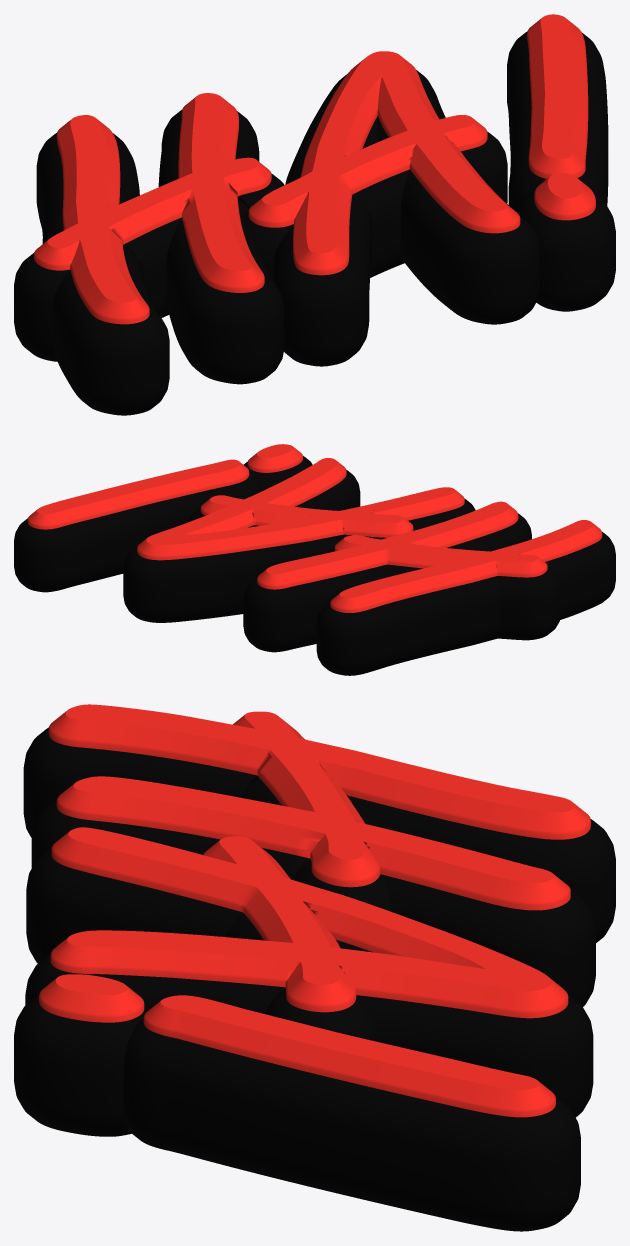
The picture shows the model from 3 angles, top to bottom: view 1: azimuth 30°, elevation 25°; view 2: azimuth 150°, elevation 25°; view 3: azimuth 270°, elevation 25°; orthographic projection. The views are drawn at different scales.
Parts seen in each view (by area): view 1: Text, Text.001; view 2: Text, Text.001; view 3: Text, Text.001.
Boxes of the visible parts, x1,y1,x2,y2 form: Text: (14,31,615,415); Text.001: (34,14,595,324); Text: (14,456,615,675); Text.001: (27,444,602,612); Text: (14,727,615,1231); Text.001: (39,704,590,1117).
Bounding box in the file's own units: 119 × 18.22 × 72.03.
